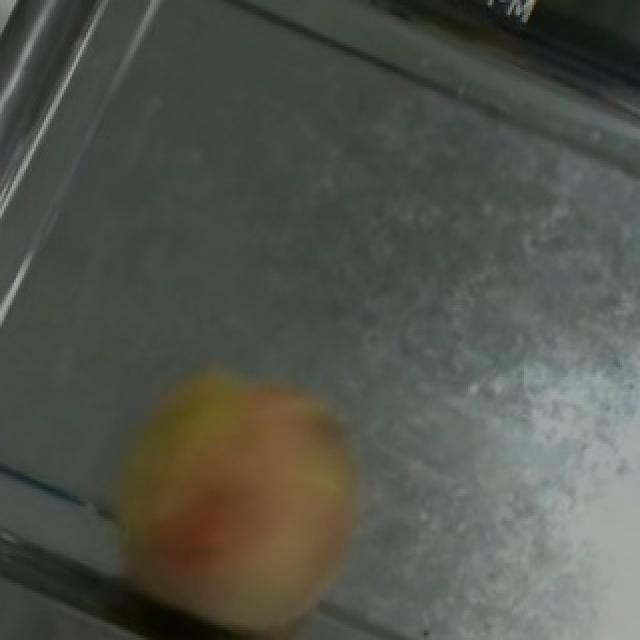Fruit: (70, 320, 398, 640)
